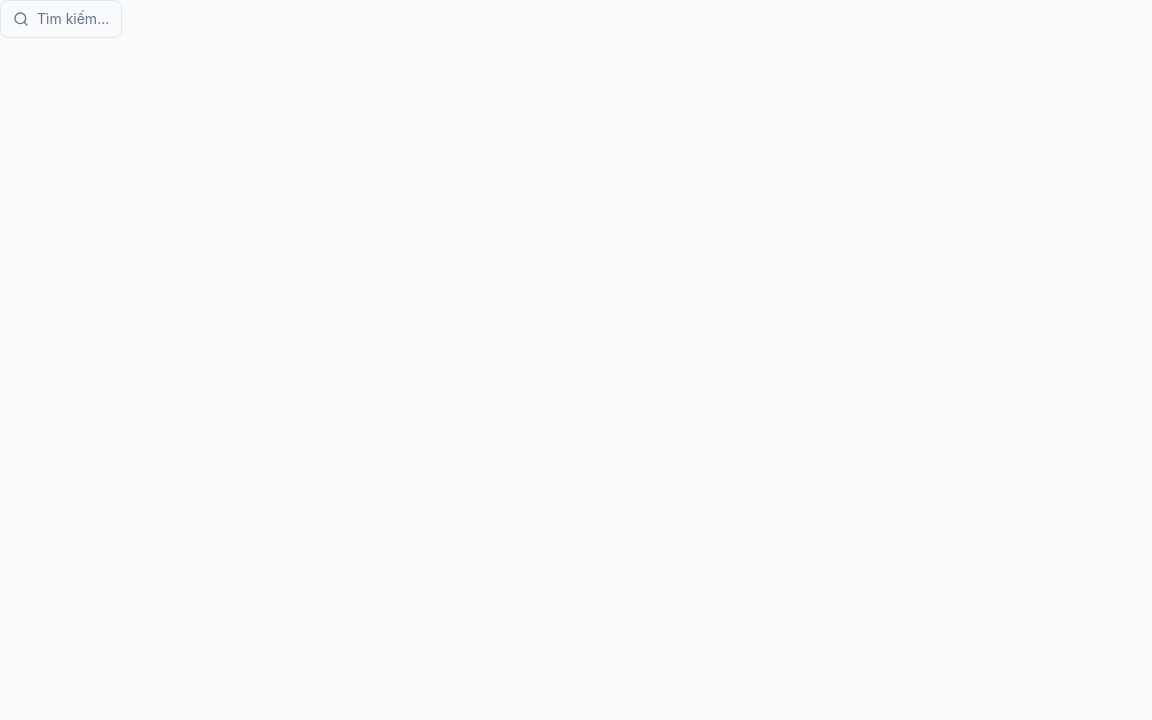
Test case: Global search › shows empty and denied states with retry
The width and height of the screenshot is (1152, 720).
Press k
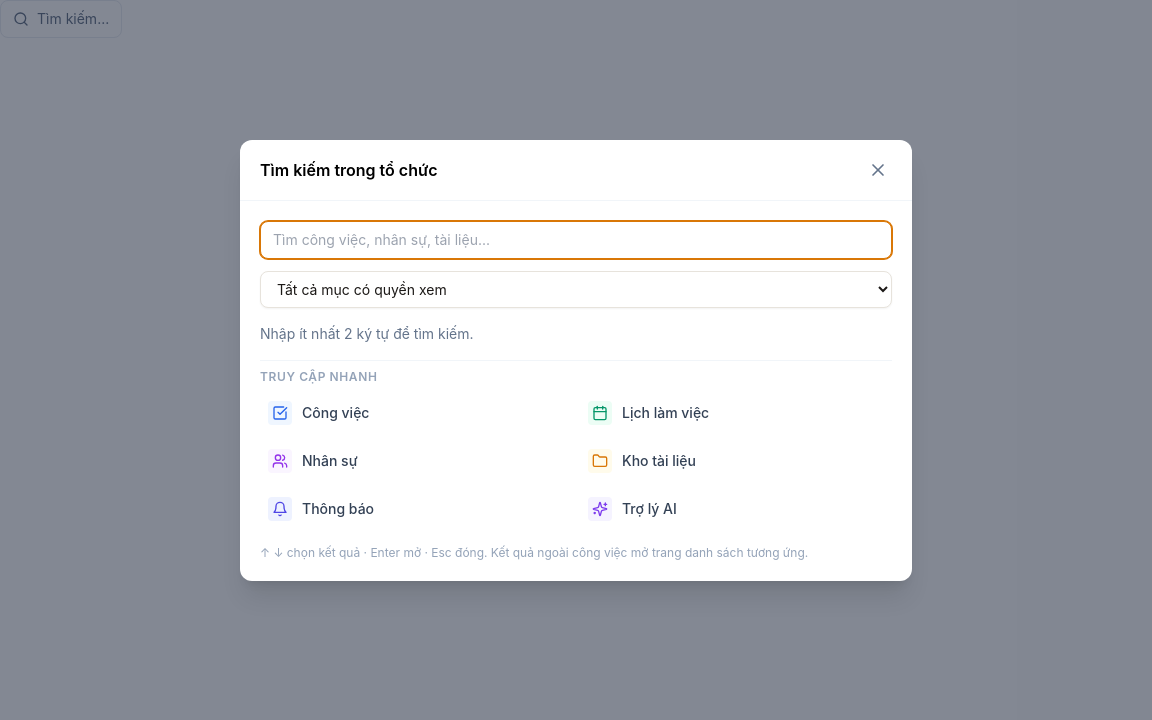
Type "Báo cáo" into the field named "Từ khóa tìm kiếm" at (576, 240), box [260,220,892,258]
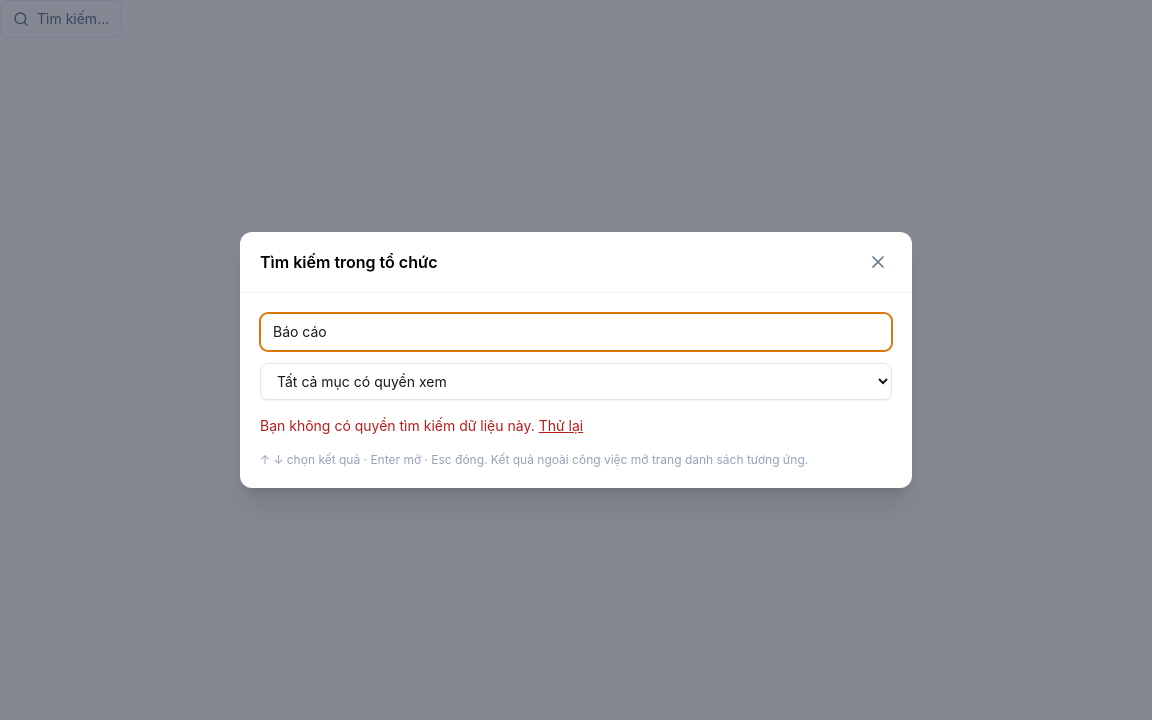
expect the message shows "không có quyền": met, box [260,417,535,434]
Click the button "Thử lại" at (561, 426), box [539,416,583,436]
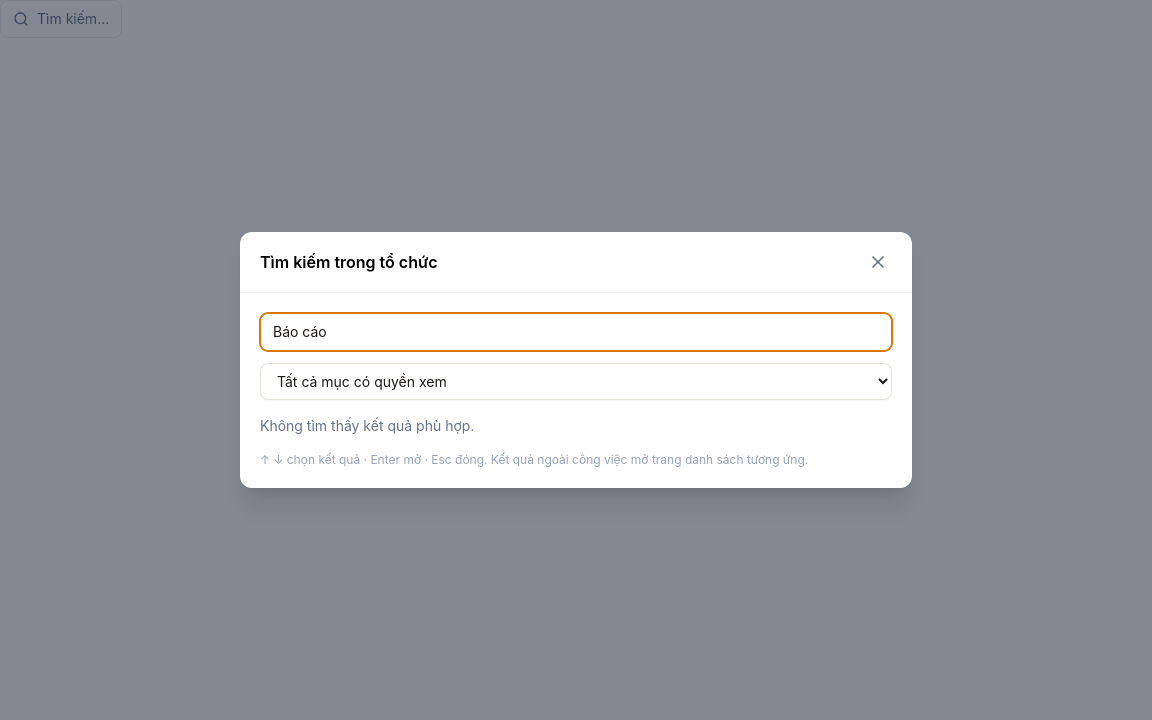
expect the text "Không tìm thấy kết quả phù hợp." is shown: met, box [260,417,474,434]
